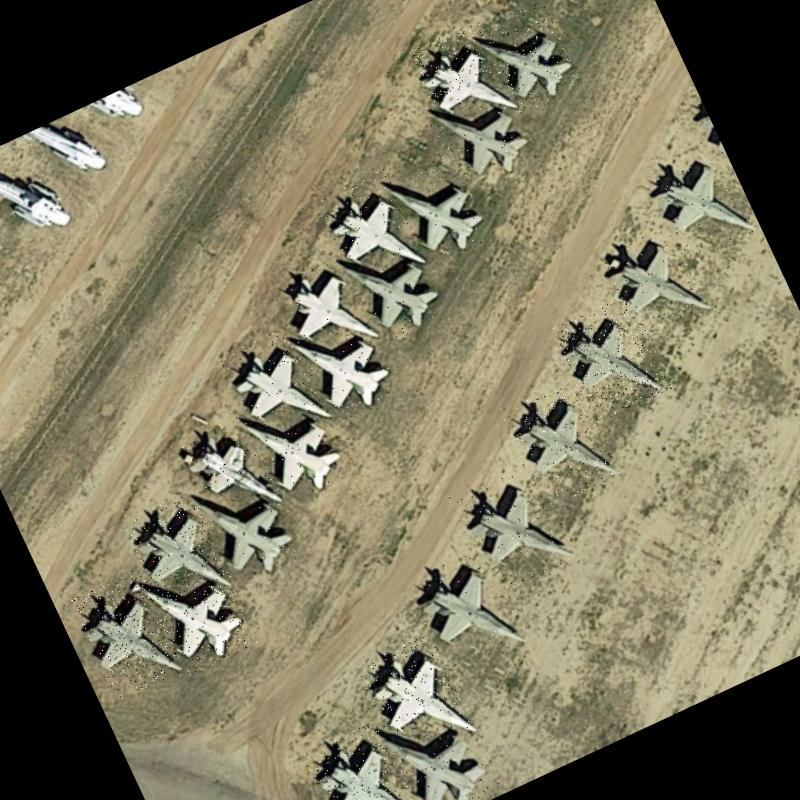A16: (447, 456, 579, 596), (354, 629, 480, 771), (399, 538, 526, 673), (499, 374, 622, 508), (636, 134, 760, 266), (550, 292, 673, 424), (136, 547, 258, 679), (70, 568, 186, 702), (121, 489, 237, 622), (422, 72, 544, 198), (218, 323, 333, 453), (315, 168, 429, 298), (188, 460, 300, 589), (467, 0, 583, 121), (287, 302, 400, 426), (380, 148, 489, 275), (407, 19, 520, 141), (178, 412, 288, 537), (240, 384, 348, 510), (598, 222, 710, 340), (372, 700, 504, 800), (342, 224, 446, 342), (272, 252, 376, 370), (302, 719, 424, 800)
